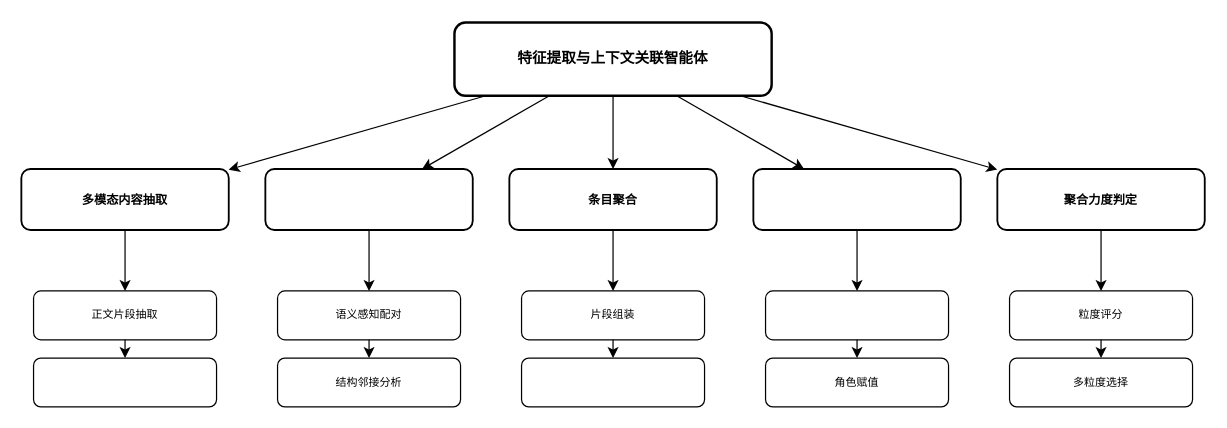
Some shapes in this 1227 by 428 pixel diagram are drawn without their labels. Each missing label, with the centre of its shape:
冲突预检: (x=612, y=382)
图表片段抽取: (x=124, y=382)
角色识别: (x=856, y=315)
语义角色标注: (x=856, y=199)
跨章节实体关联: (x=368, y=199)
